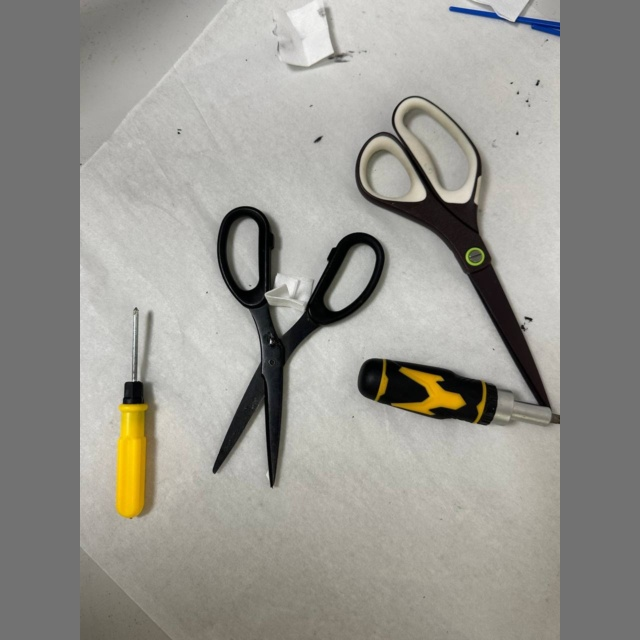scissor: (356, 97, 549, 416), (213, 206, 385, 486)
screwdriver: (358, 358, 551, 426), (116, 308, 147, 518)
